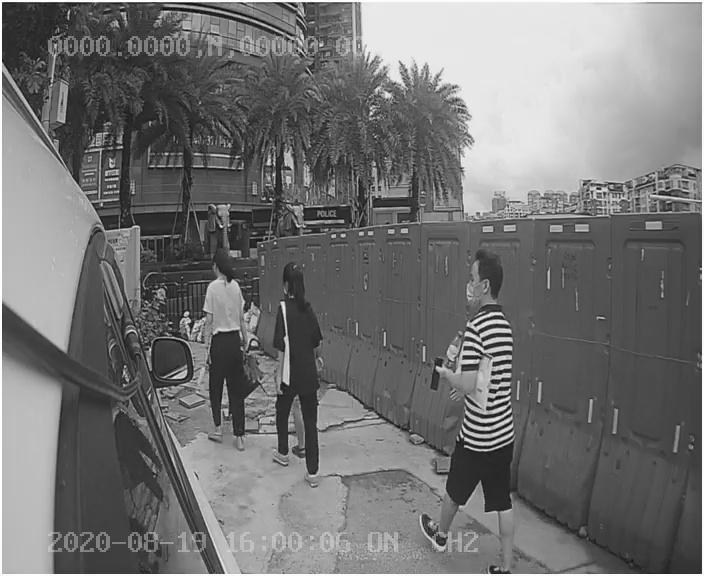person: (417, 248, 539, 569), (262, 263, 349, 483), (193, 253, 270, 461)
